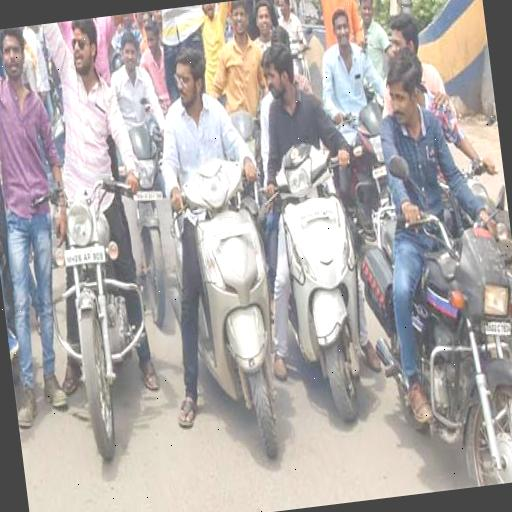no helmet: (27, 17, 166, 512), (364, 34, 512, 484), (154, 26, 286, 456), (242, 14, 378, 430), (102, 25, 190, 343), (310, 0, 400, 265)
